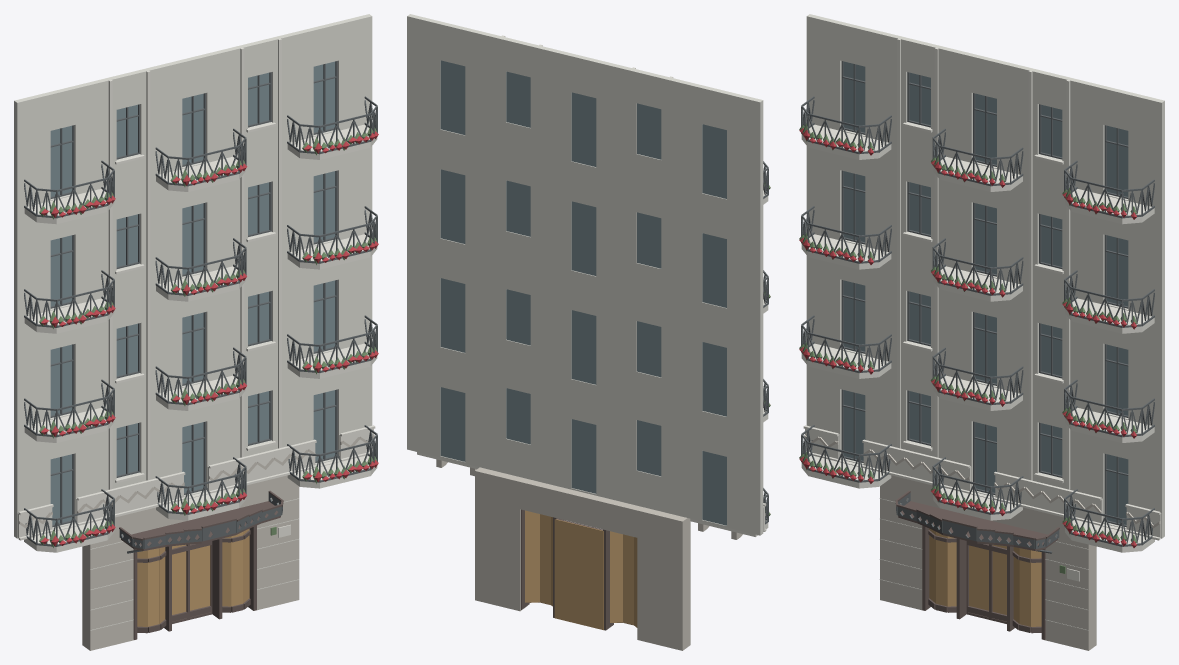
Rendered from huangpu-yangtze-hotel-hankou-balconies-lod.glb.
3 views of the same model, side by side, from view 1: azimuth 30°, elevation 25°; view 2: azimuth 150°, elevation 25°; view 3: azimuth 330°, elevation 25° (orthographic).
Visible parts, largest first — view 1: 扬子饭店汉口路主门与三列花台; view 2: 扬子饭店汉口路主门与三列花台; view 3: 扬子饭店汉口路主门与三列花台.
Boxes of the visible parts, x1,y1,x2,y2 form: 扬子饭店汉口路主门与三列花台: [14, 14, 378, 650]; 扬子饭店汉口路主门与三列花台: [407, 14, 770, 650]; 扬子饭店汉口路主门与三列花台: [799, 14, 1164, 650].
Bounding box in the file's own units: 12.85 × 19.57 × 2.08.
